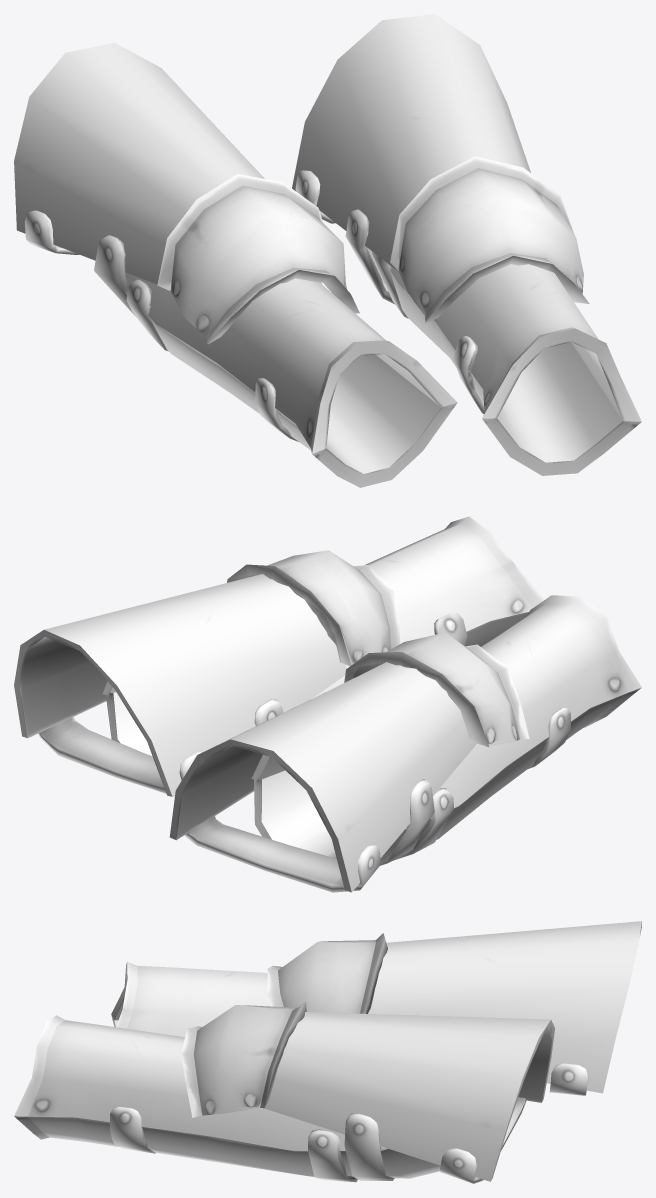
File: 037_plate_leggings_lp.fbx
3 renders of one model, top to bottom at view 1: azimuth 30°, elevation 25°; view 2: azimuth 150°, elevation 25°; view 3: azimuth 270°, elevation 25°, orthographic. The views are drawn at different scales.
Parts seen in each view (by area): view 1: 037_plate_leggings; view 2: 037_plate_leggings; view 3: 037_plate_leggings.
Boxes of the visible parts, left/top/right/bottom form: 037_plate_leggings: left=14, top=14, right=641, bottom=487; 037_plate_leggings: left=14, top=516, right=641, bottom=892; 037_plate_leggings: left=14, top=921, right=641, bottom=1183.
Size of the model in its own units: 39.45 by 18.94 by 59.71.
